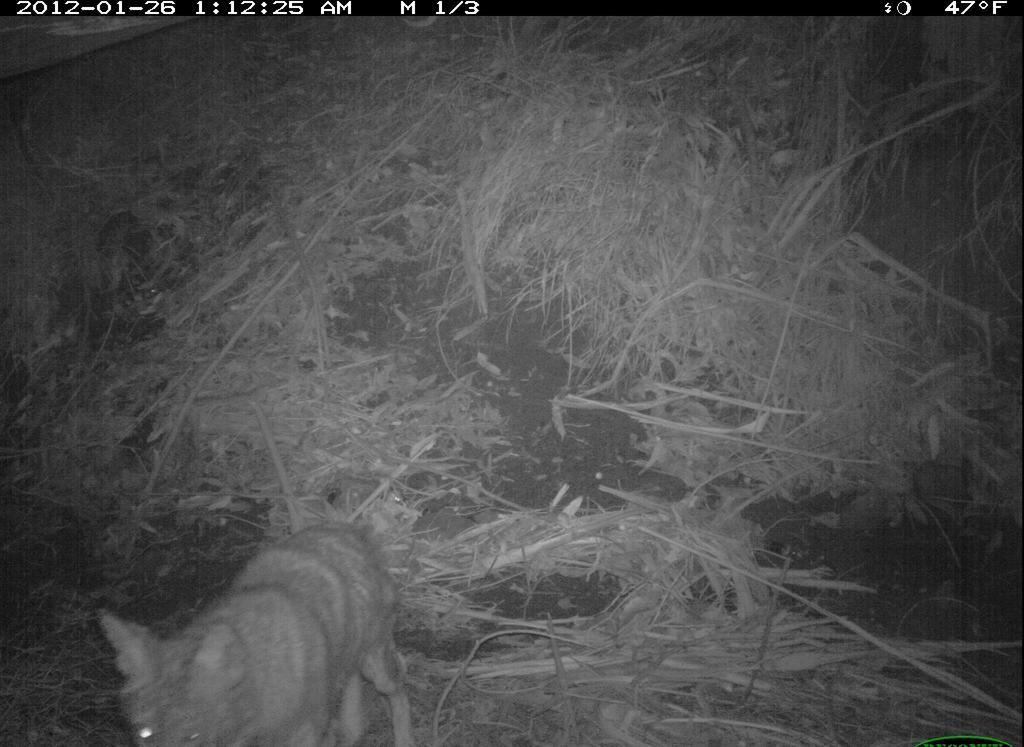coyote: (89, 505, 452, 747)
